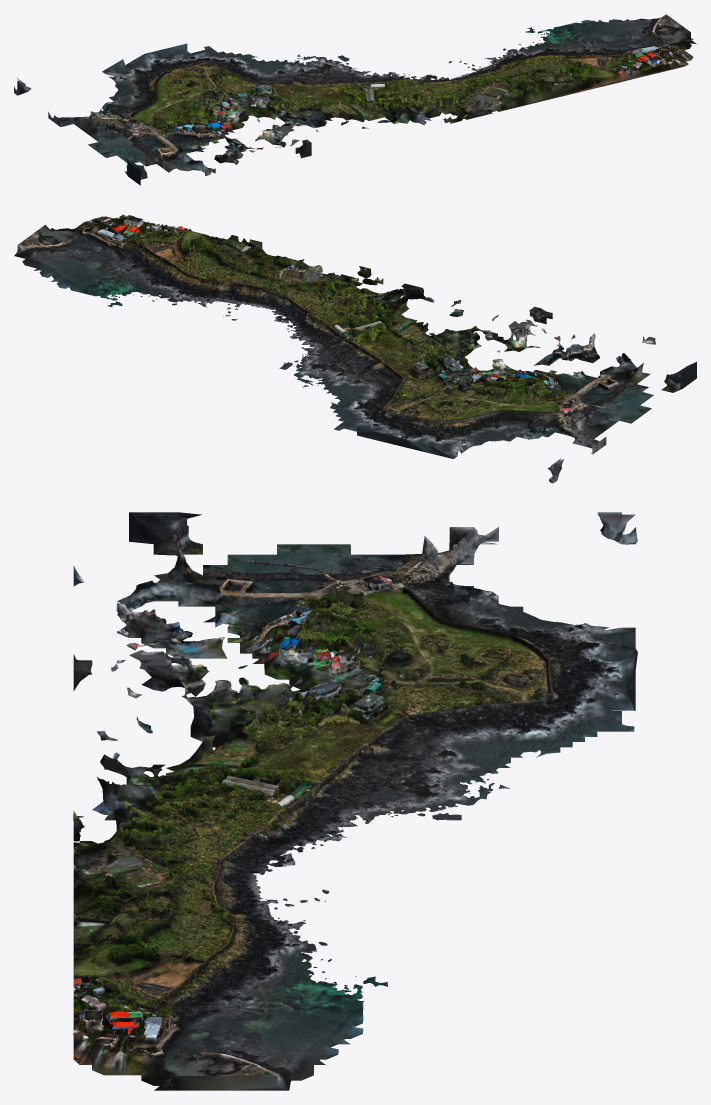
Rendered from whanhae_300k.glb.
3 renders of one model, top to bottom at view 1: azimuth 30°, elevation 25°; view 2: azimuth 150°, elevation 25°; view 3: azimuth 270°, elevation 25°, orthographic. The views are drawn at different scales.
Parts seen in each view (by area): view 1: Mesh_0_Part_0; view 2: Mesh_0_Part_0; view 3: Mesh_0_Part_0.
Part boxes in pixels (left/top/right/bottom): Mesh_0_Part_0: left=14, top=14, right=696, bottom=185; Mesh_0_Part_0: left=14, top=214, right=696, bottom=483; Mesh_0_Part_0: left=73, top=512, right=637, bottom=1090.
Bounding box in the file's own units: 675 × 17.13 × 294.
1 material, 1 textured.
